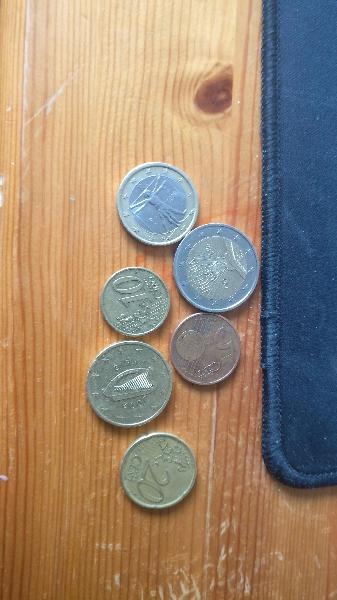Fifty Cent: (86, 339, 179, 430)
Five Cent: (169, 313, 246, 388)
One Euro: (117, 161, 196, 247)
Ten Cent: (98, 267, 170, 334)
Twenty Cent: (117, 433, 200, 512)
Two Euro: (172, 222, 258, 313)
